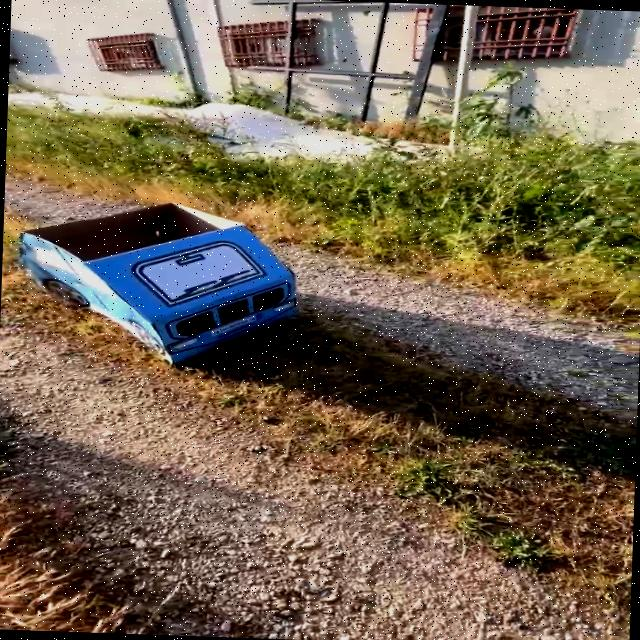blue_car: (0, 177, 362, 405)
